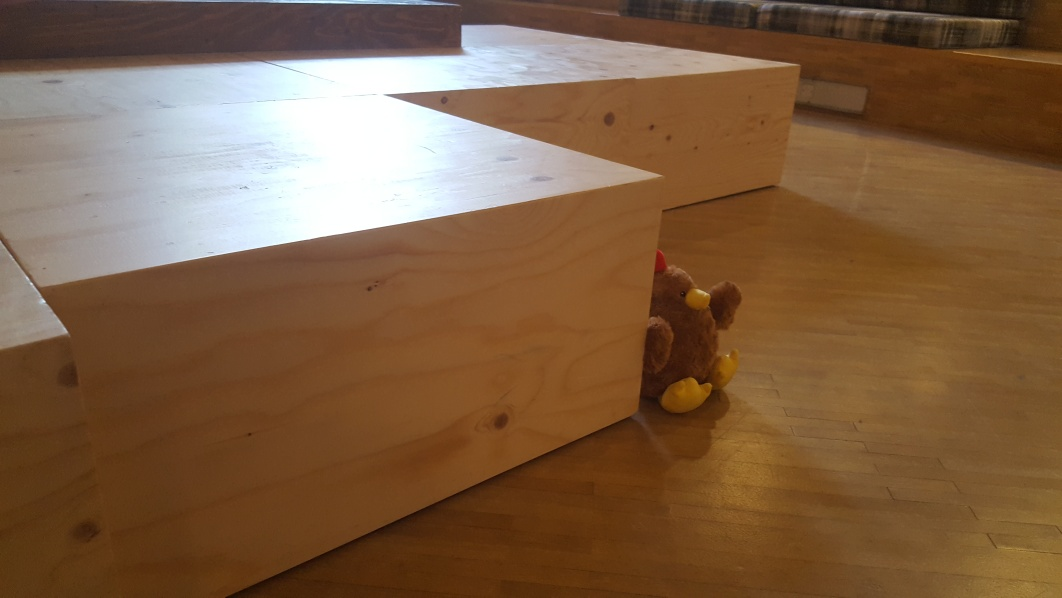chicken: (643, 246, 743, 412)
